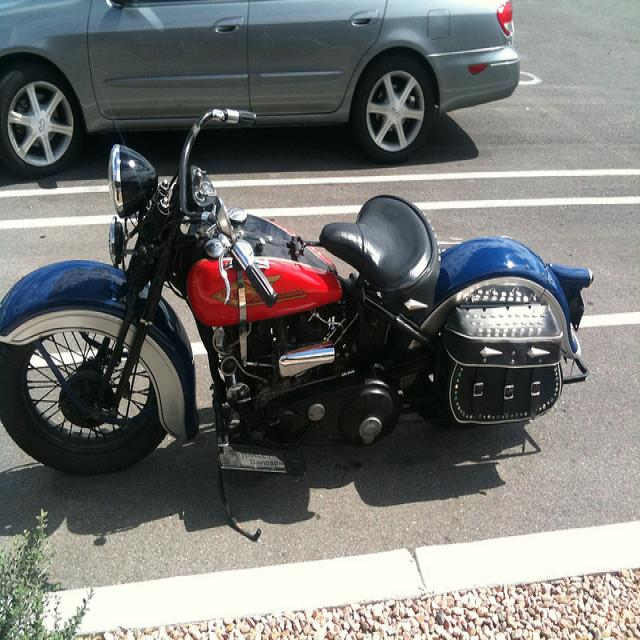motor: (0, 109, 586, 478)
